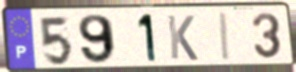1: (134, 12, 159, 65)
3: (250, 12, 282, 62)
5: (38, 14, 75, 67)
9: (78, 13, 119, 67)
I: (219, 11, 232, 63)
K: (165, 14, 200, 62)
